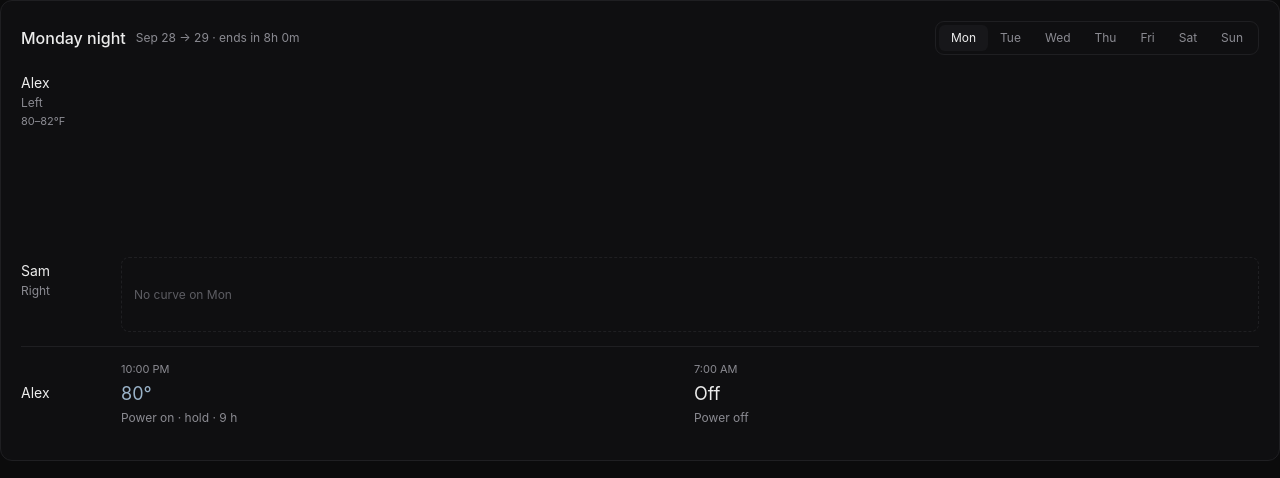
Test case: shows the end countdown while tonight is running and selects another night
Expected: the text "Sep 28 → 29 · ends in 8h 0m" is shown, [136, 30, 300, 46]
Expected: the text "No curve on Mon" is shown, [121, 257, 1259, 332]
Click the tab "Tue" at [1010, 38], box [988, 25, 1033, 51]
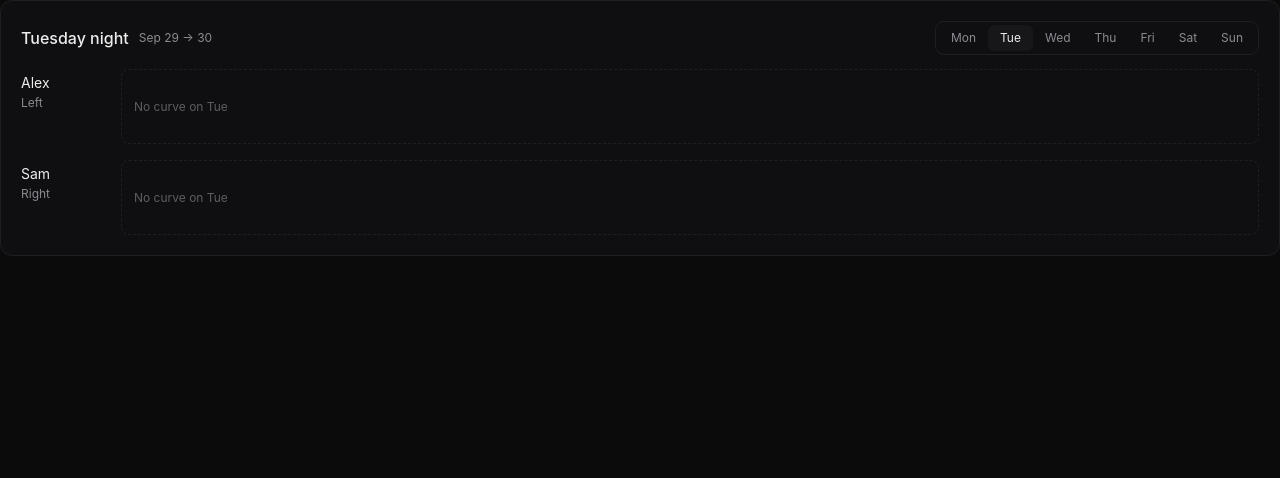
Now the text "Tuesday night" is shown, box [21, 26, 129, 50]
Now the text "No curve on Tue" is shown 2 times, box [121, 69, 1259, 144]; [121, 160, 1259, 235]
